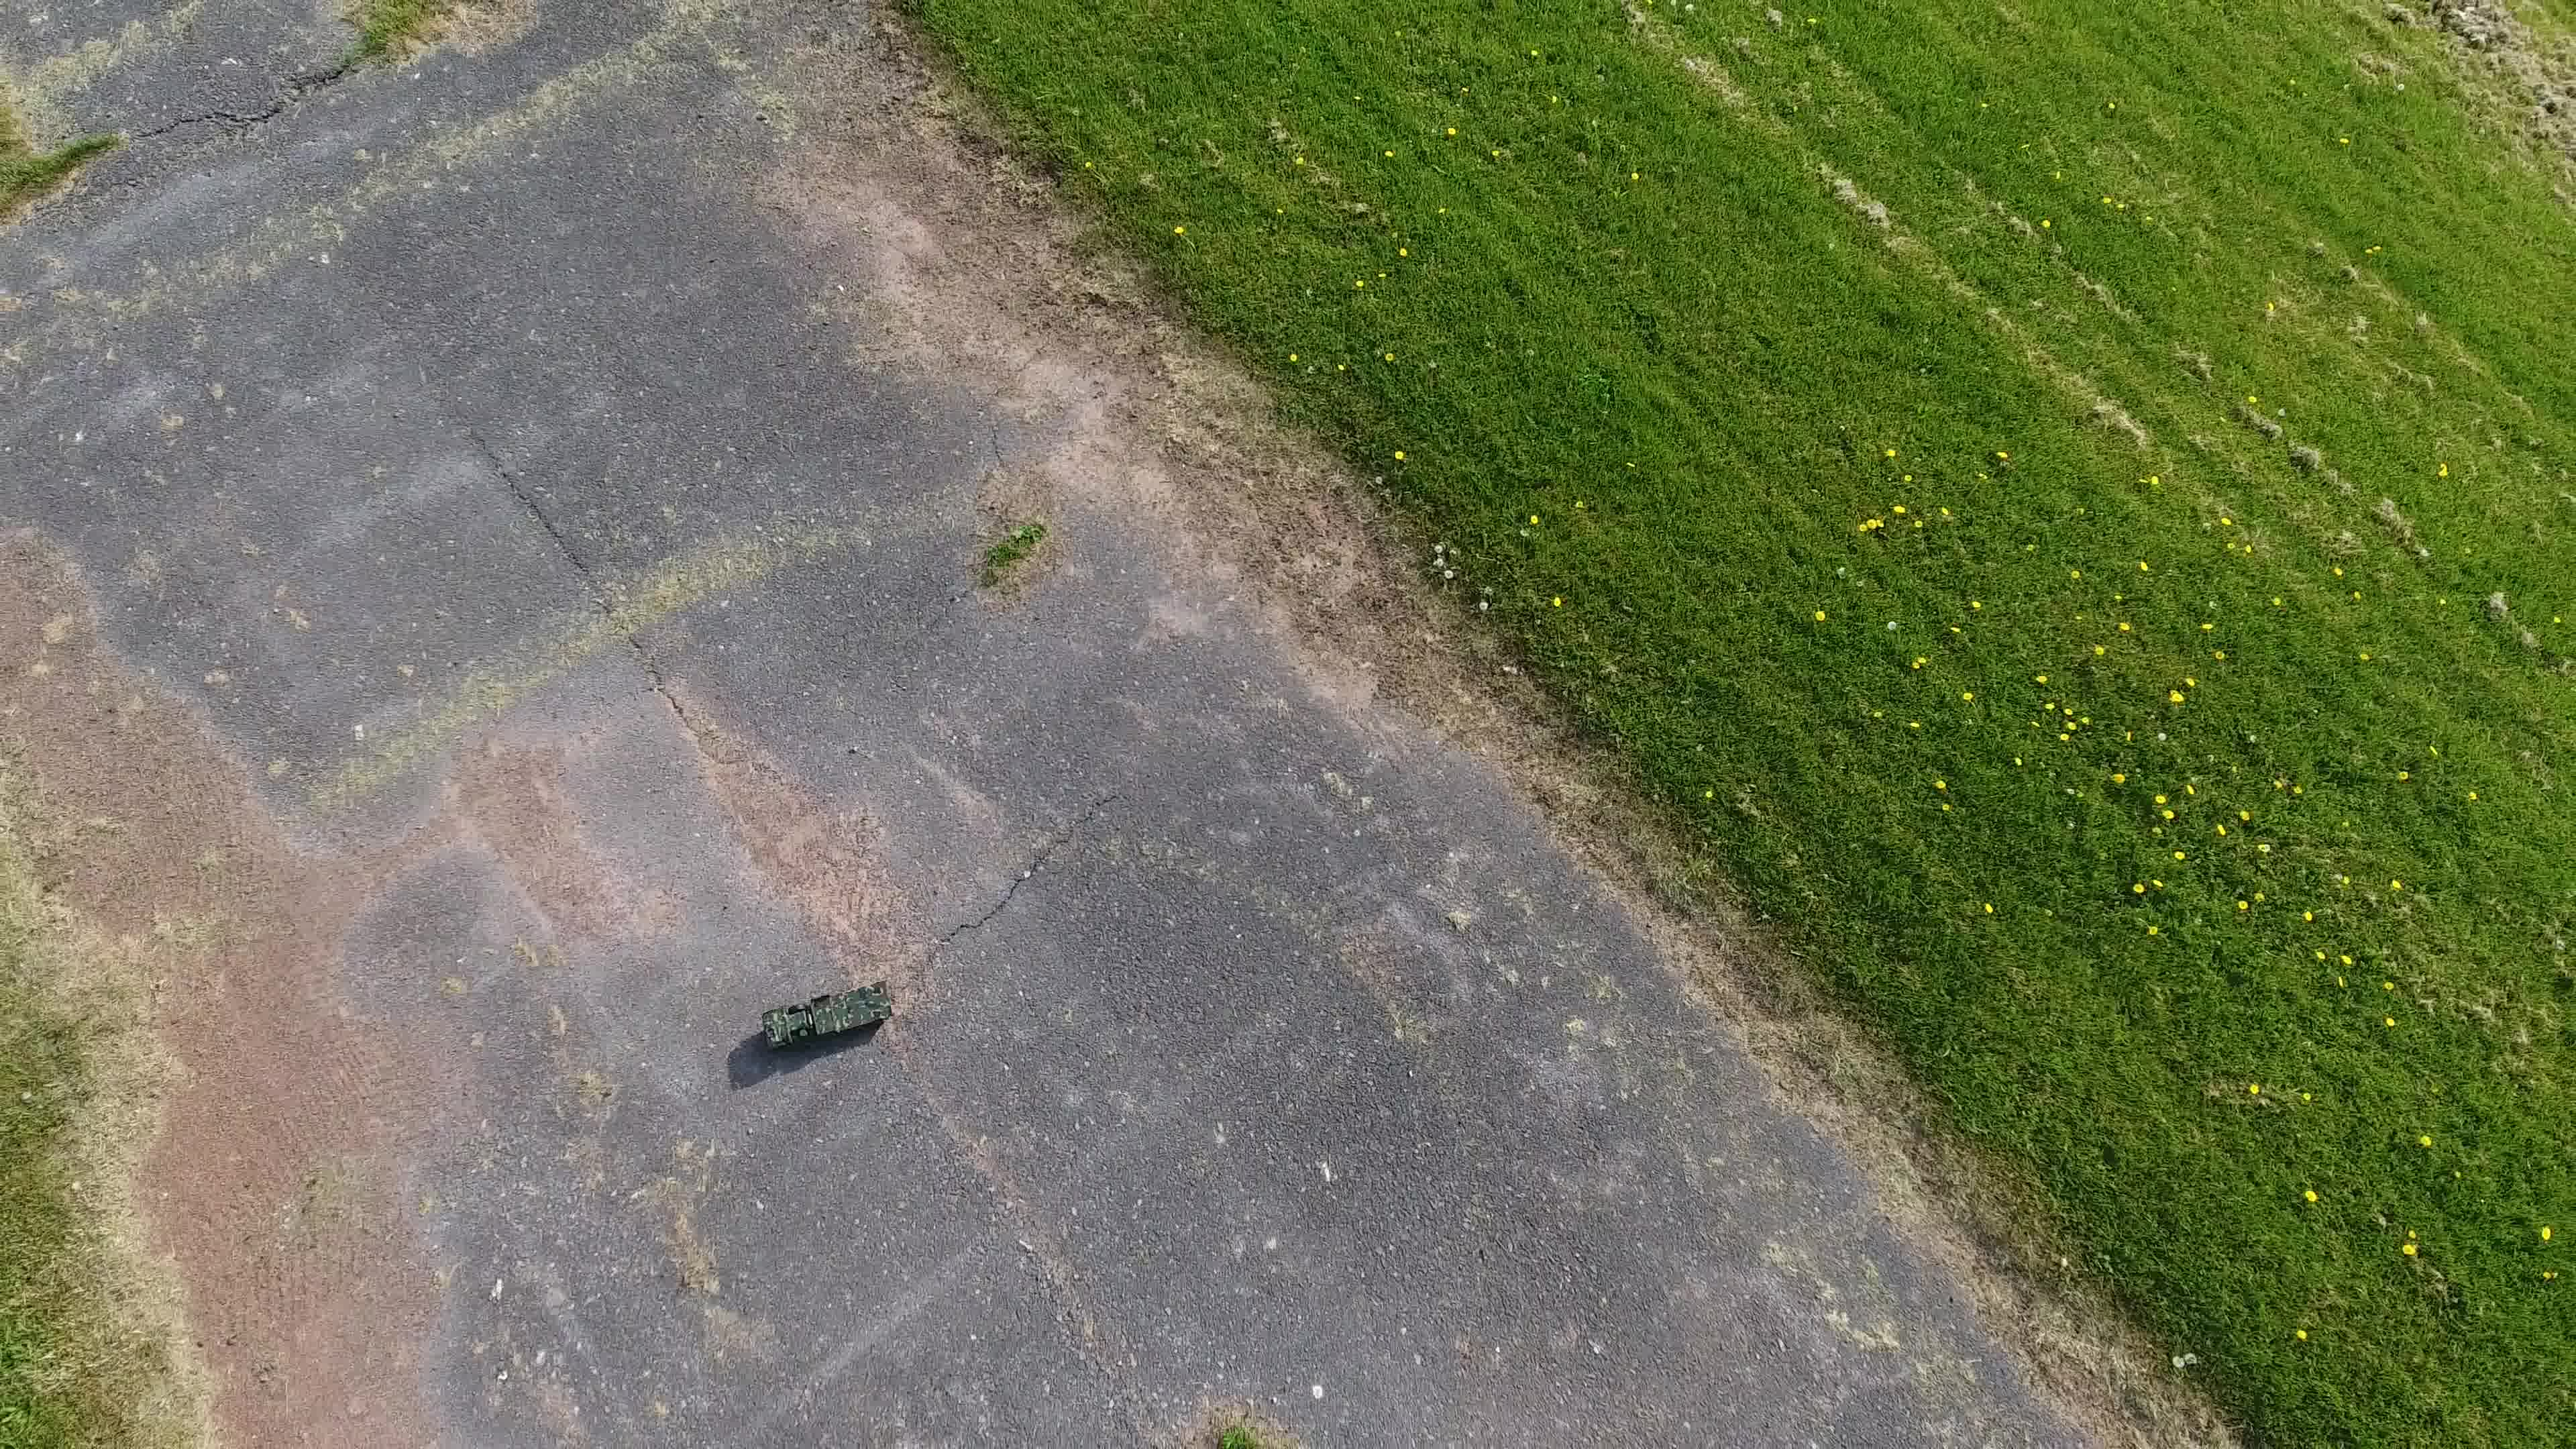transporter9_camo: (761, 970, 897, 1054)
